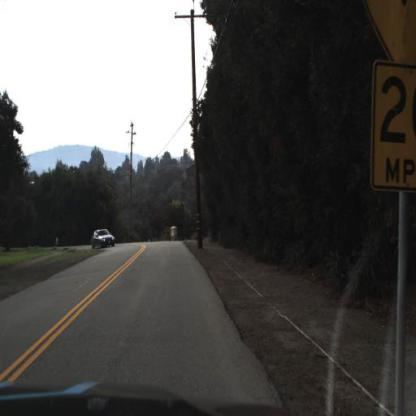car: (92, 225, 116, 252)
